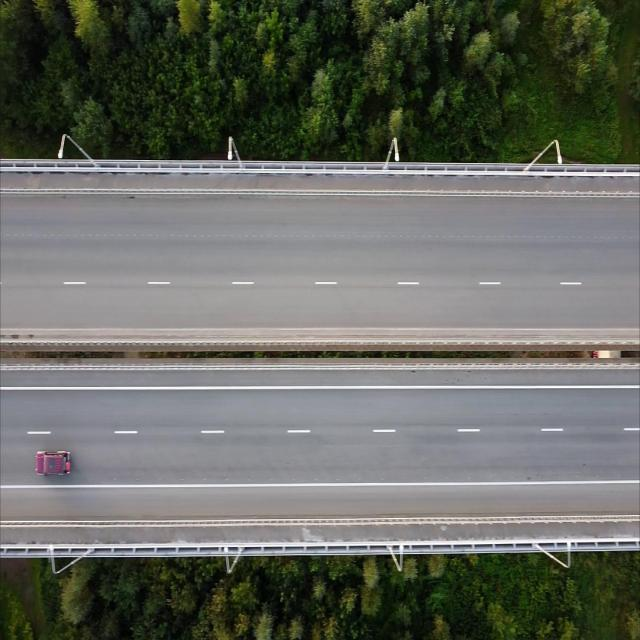Car: (34, 446, 72, 483)
